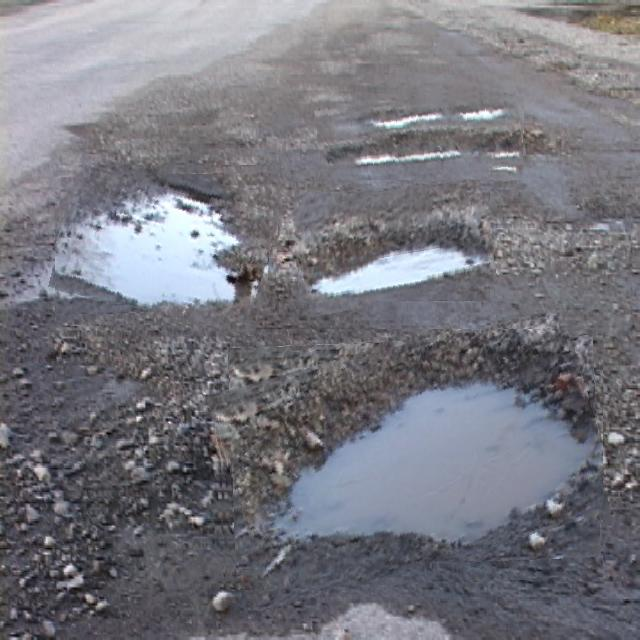Pothole: (216, 329, 603, 591), (55, 165, 281, 327), (295, 184, 494, 310), (317, 87, 524, 180)
